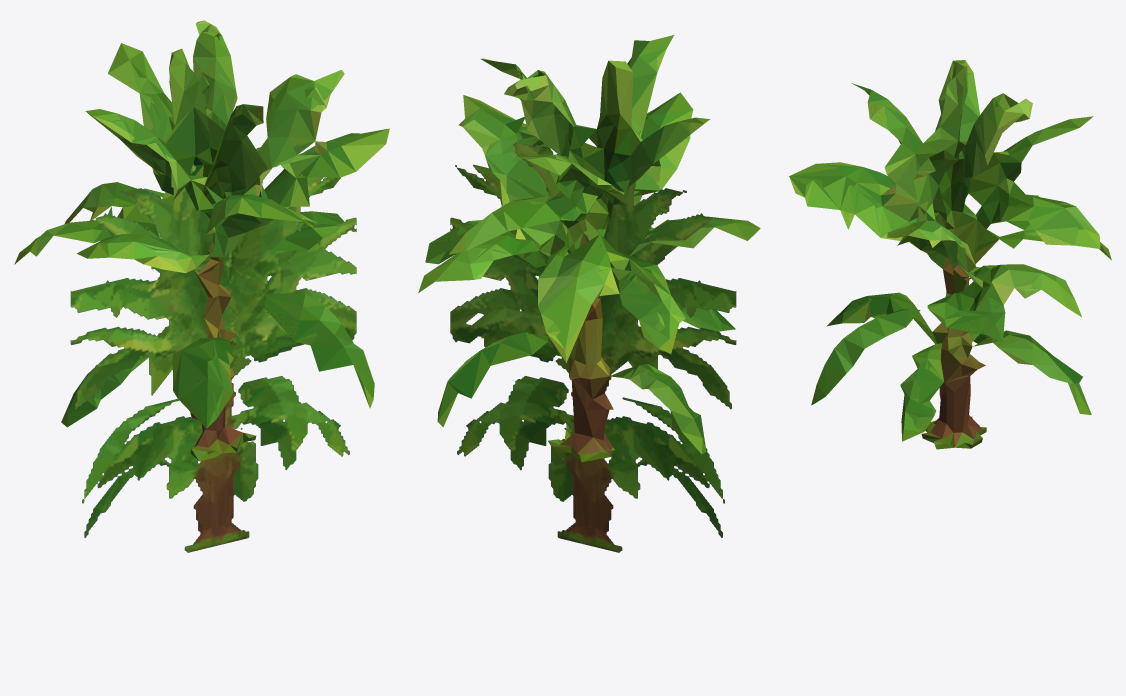
File: mn_banana.glb
3 renders of one model, left to right at view 1: azimuth 30°, elevation 25°; view 2: azimuth 150°, elevation 25°; view 3: azimuth 270°, elevation 25°, orthographic. The views are drawn at different scales.
Visible parts, largest first — view 1: mn_banana, mn_banana_impostor; view 2: mn_banana, mn_banana_impostor; view 3: mn_banana.
Boxes of the visible parts, box(x1,y1,x2,y2) form: mn_banana: box(14, 20, 389, 461); mn_banana_impostor: box(70, 147, 356, 552); mn_banana: box(418, 35, 760, 462); mn_banana_impostor: box(450, 142, 736, 552); mn_banana: box(789, 60, 1111, 449).
Size of what is drawn, in the model's own units: 2.5 by 4.76 by 2.57.
Materials: 2 (1 with a texture image).
